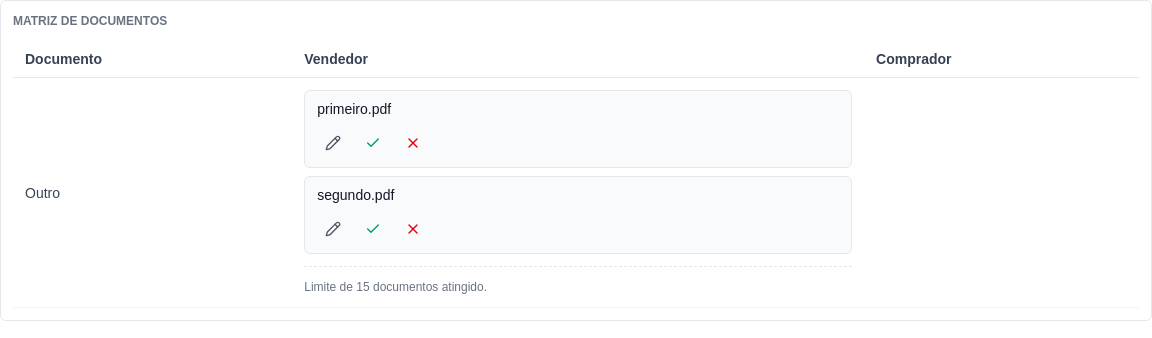
ContractDocumentMatrix › associa o loading de Outro ao tipo efetivo do documento
The image size is (1152, 338).
Click the 1st button named "Editar documento": [333, 143] box [317,127,349,159]
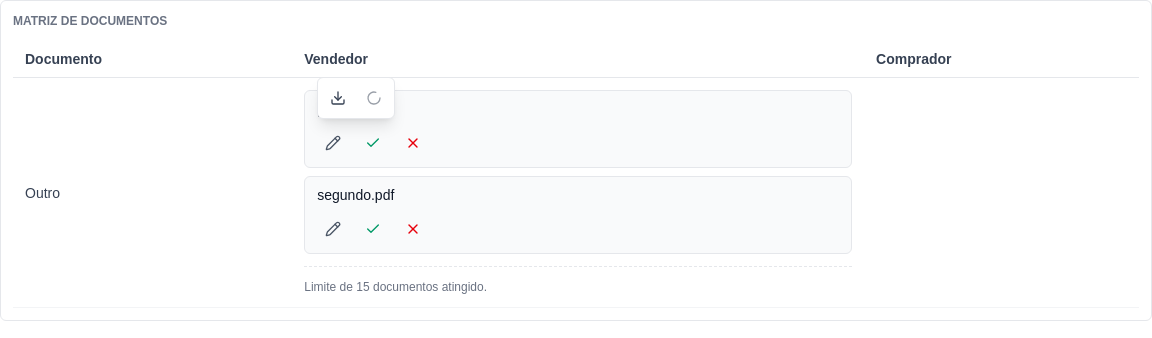
Check: the icon with class "animate-spin" is shown, box [366,90,382,106]
Click the 2nd button named "Editar documento": [333, 229] box [317,213,349,245]
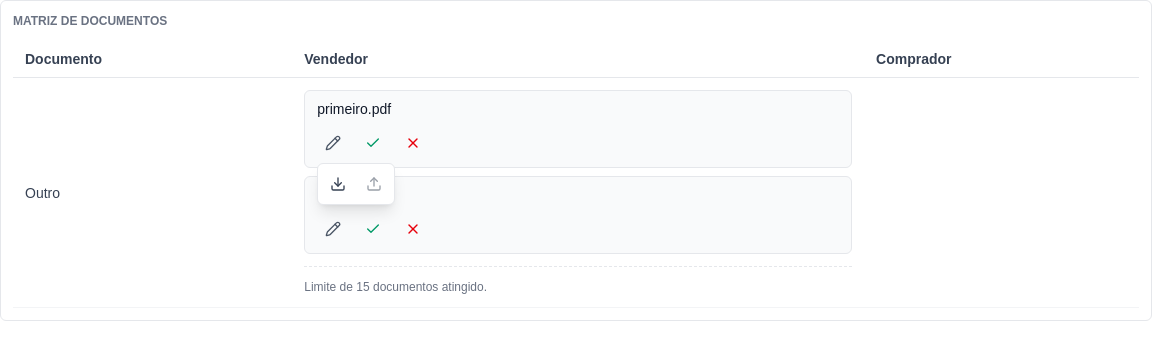
Check: the icon with class "animate-spin" is gone
